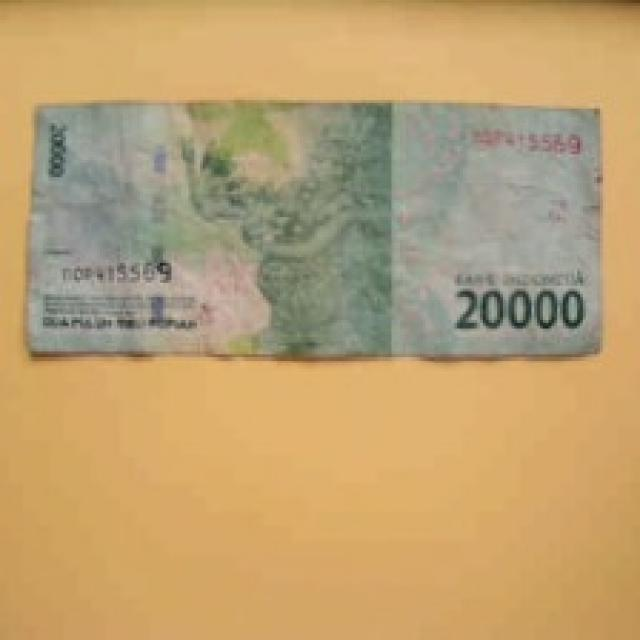dua puluh ribu rupiah: (25, 50, 640, 446)
